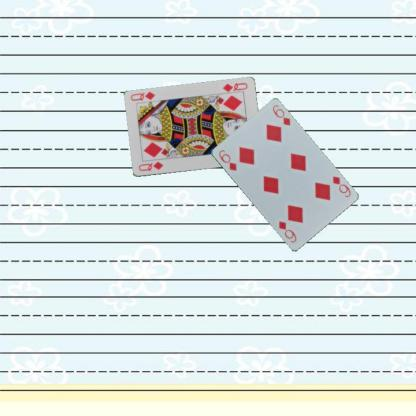6d: (216, 148, 238, 172), (330, 174, 352, 198)
Qd: (219, 80, 248, 96), (136, 159, 164, 172)
